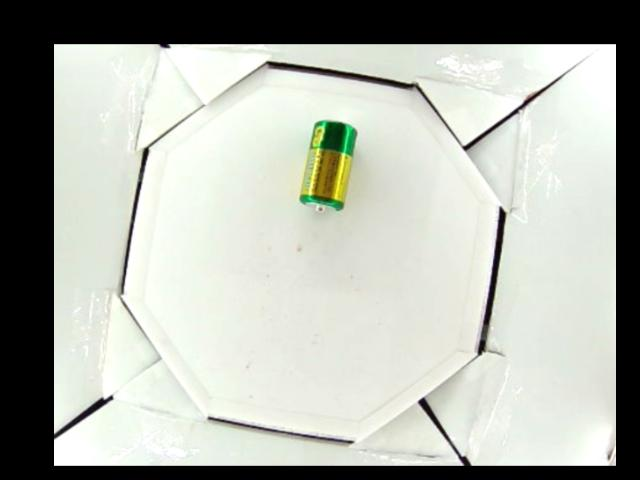Battery: (298, 120, 358, 213)
